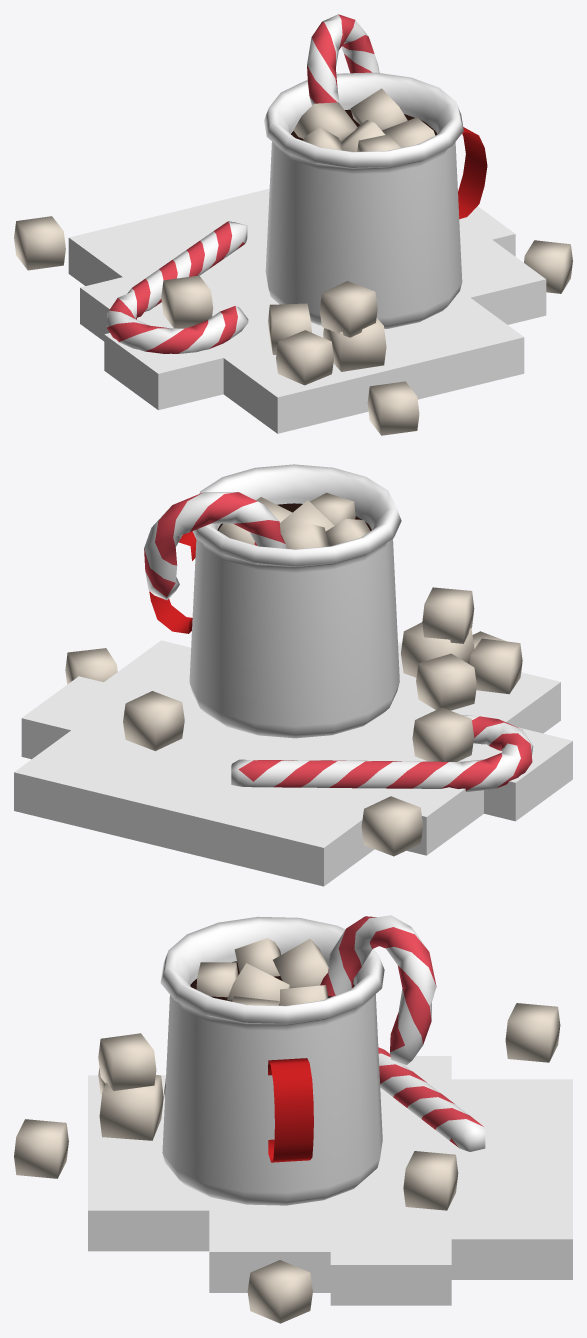
Rendered from cup.glb.
3 renders of one model, top to bottom at view 1: azimuth 30°, elevation 25°; view 2: azimuth 150°, elevation 25°; view 3: azimuth 270°, elevation 25°, orthographic. The views are drawn at different scales.
Parts seen in each view (by area): view 1: Plane.002, Vert, Vert.001, Vert.002, Cube.015, Cube.006, Cube.008, Cube.014, Cube.011, Cube.007, Cube.013, Plane (+7 smaller); view 2: Plane.002, Vert, Vert.001, Vert.002, Cube.009, Cube.008, Cube.005, Cube.011, Cube.015, Cube.006, Cube.007, Cube.013 (+5 smaller); view 3: Plane.002, Vert, Vert.002, Plane, Vert.001, Cube.013, Cube.007, Cube.008, Cube.009, Cube.014, Cube.015, Cube (+4 smaller).
Boxes of the visible parts, <box> form: Plane.002: <box>68,188,546,433</box>; Vert: <box>264,72,463,328</box>; Vert.001: <box>106,221,248,353</box>; Vert.002: <box>307,14,379,105</box>; Cube.015: <box>319,281,377,337</box>; Cube.006: <box>276,330,333,385</box>; Cube.008: <box>14,216,65,270</box>; Cube.014: <box>367,381,419,435</box>; Cube.011: <box>161,275,213,328</box>; Cube.007: <box>323,318,386,371</box>; Cube.013: <box>524,240,572,293</box>; Plane: <box>458,127,487,219</box>; Plane.002: <box>14,640,572,886</box>; Vert: <box>189,464,401,738</box>; Vert.001: <box>231,715,533,791</box>; Vert.002: <box>144,492,286,600</box>; Cube.009: <box>123,691,184,750</box>; Cube.008: <box>361,796,423,856</box>; Cube.005: <box>416,653,476,710</box>; Cube.011: <box>412,707,474,761</box>; Cube.015: <box>422,587,474,643</box>; Cube.006: <box>469,638,522,694</box>; Cube.007: <box>400,622,474,677</box>; Cube.013: <box>65,648,117,684</box>; Plane.002: <box>88,1056,572,1305</box>; Vert: <box>160,916,384,1205</box>; Vert.002: <box>320,915,436,1064</box>; Plane: <box>268,1058,313,1162</box>; Vert.001: <box>378,1047,485,1151</box>; Cube.013: <box>247,1260,312,1323</box>; Cube.007: <box>99,1075,163,1140</box>; Cube.008: <box>505,1003,560,1062</box>; Cube.009: <box>403,1151,458,1210</box>; Cube.014: <box>14,1119,68,1178</box>; Cube.015: <box>98,1033,156,1090</box>; Cube: <box>273,939,328,988</box>.
Size of what is drawn, in the model's own units: 3.94 by 2.26 by 3.8.
